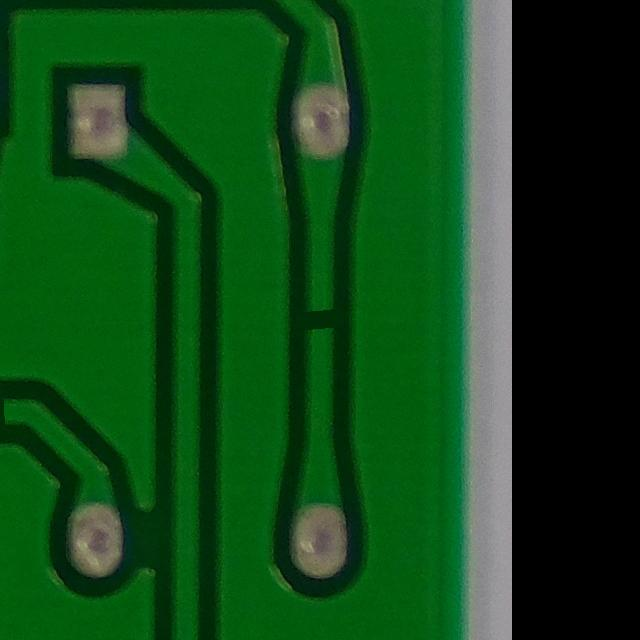open_circuit: (297, 297, 344, 344)
